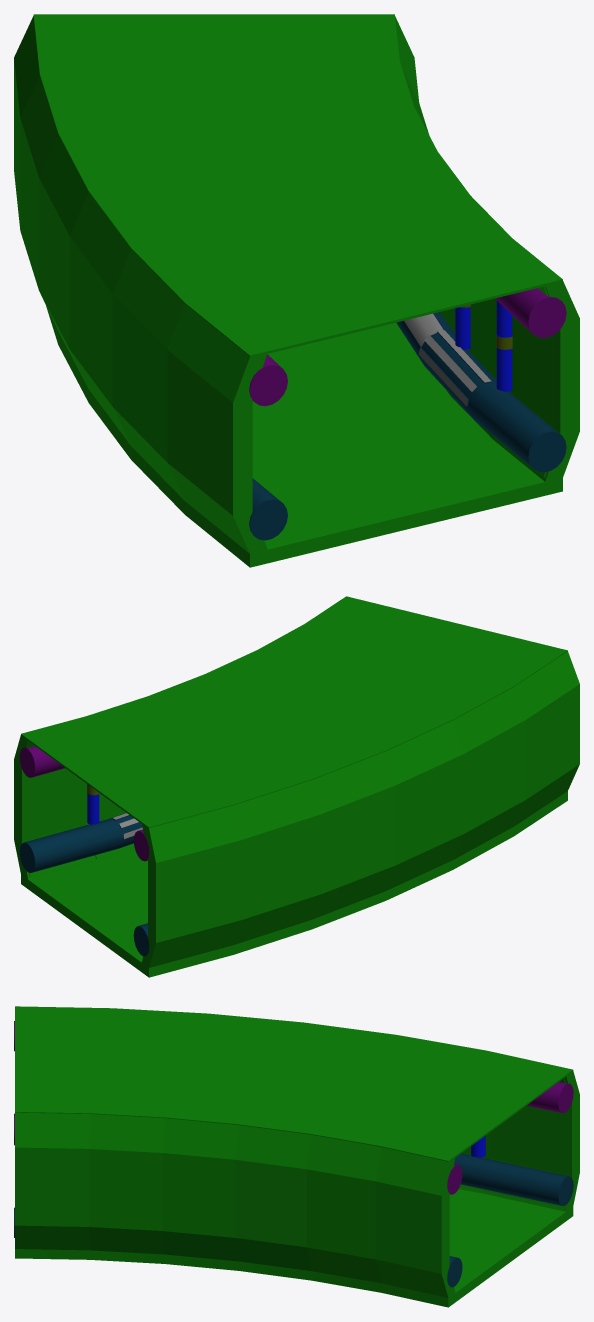
Rendered from couloir tournant.FBX.
The picture shows the model from 3 angles, top to bottom: view 1: azimuth 30°, elevation 25°; view 2: azimuth 150°, elevation 25°; view 3: azimuth 270°, elevation 25°; orthographic projection. The views are drawn at different scales.
Visible parts, largest first — view 1: Turning couloir; view 2: Turning couloir; view 3: Turning couloir.
Boxes of the visible parts, x1,y1,x2,y2 form: Turning couloir: (14, 14, 579, 567); Turning couloir: (14, 596, 579, 977); Turning couloir: (14, 1006, 579, 1307).
Bounding box in the file's own units: 4015 × 1660 × 5809.
